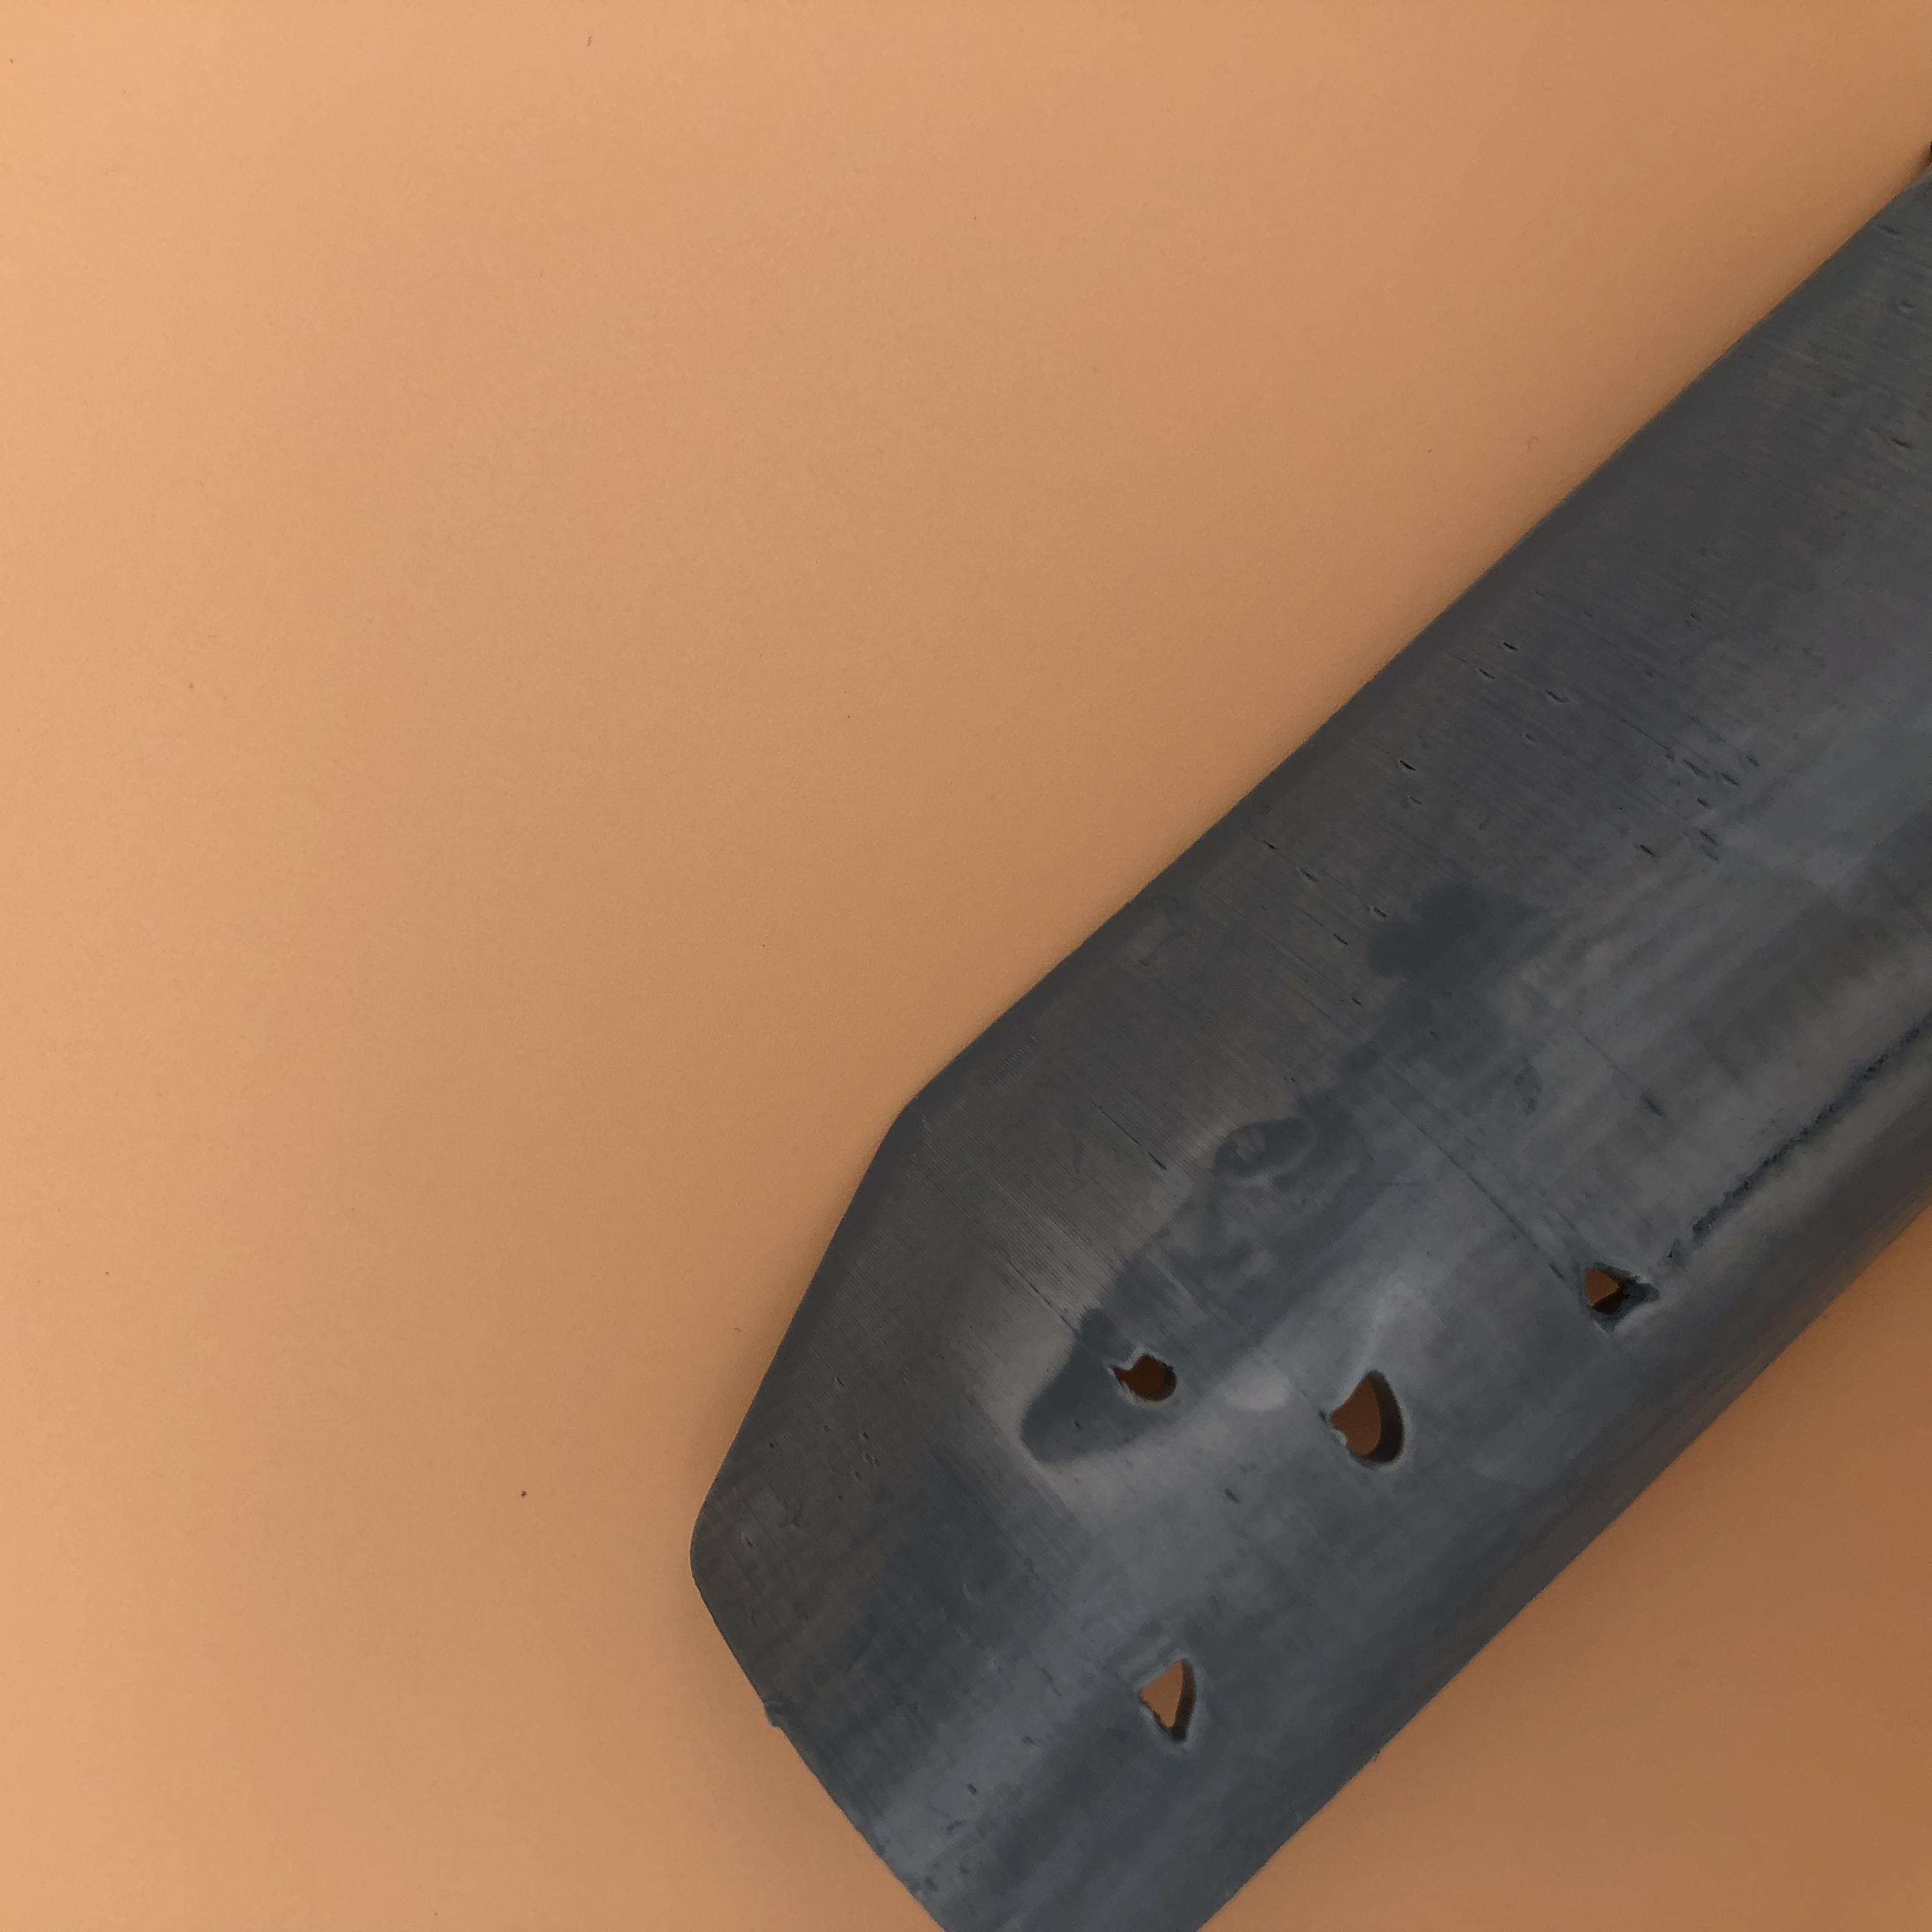breakdown: (1106, 1334, 1415, 1486), (1562, 1253, 1681, 1334), (1136, 1637, 1214, 1752)
